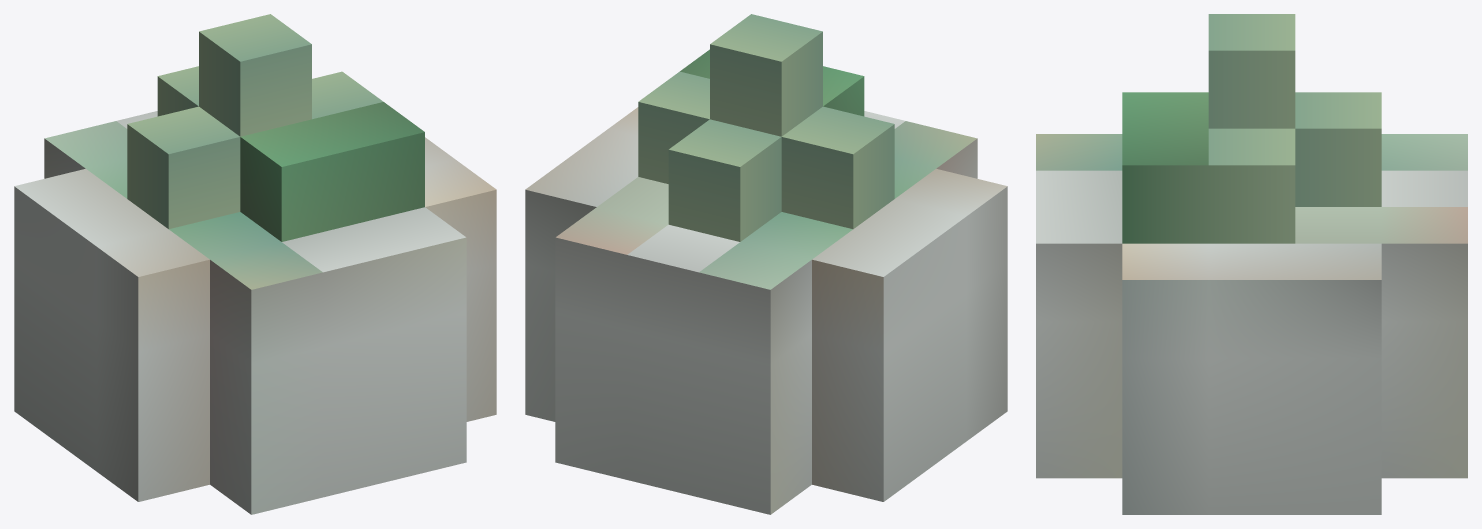
The model's file is BowlWithFood_00.fbx.
3 views of the same model, side by side, from view 1: azimuth 30°, elevation 25°; view 2: azimuth 150°, elevation 25°; view 3: azimuth 270°, elevation 25° (orthographic). The views are drawn at different scales.
Visible parts, largest first — view 1: BowlWithFood_00; view 2: BowlWithFood_00; view 3: BowlWithFood_00.
Boxes of the visible parts, left/top/right/bottom form: BowlWithFood_00: left=14, top=14, right=496, bottom=514; BowlWithFood_00: left=525, top=14, right=1007, bottom=514; BowlWithFood_00: left=1036, top=14, right=1467, bottom=514.
Size of the model in its own units: 25 by 25 by 25.
1 material, 1 textured.
